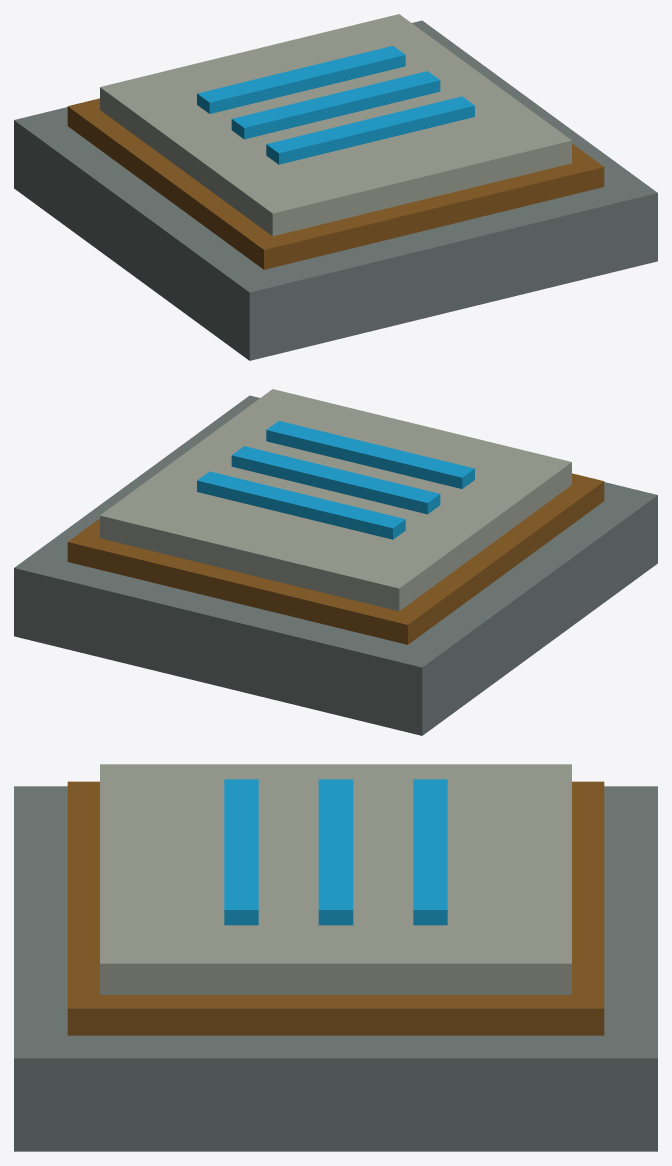
File: MOV_PRESS_WATER_02.obj
3 views of the same model, one above another, from view 1: azimuth 30°, elevation 25°; view 2: azimuth 150°, elevation 25°; view 3: azimuth 270°, elevation 25° (orthographic). The views are drawn at different scales.
Visible parts, largest first — view 1: Part_0, Part_2, Part_1, Part_4, Part_5, Part_3; view 2: Part_0, Part_2, Part_1, Part_4, Part_3, Part_5; view 3: Part_0, Part_2, Part_1, Part_4, Part_3, Part_5.
Boxes of the visible parts, x1,y1,x2,y2 form: Part_0: (14,20,657,360); Part_2: (100,14,571,236); Part_1: (67,98,604,269); Part_4: (231,71,440,139); Part_5: (266,96,474,164); Part_3: (197,46,405,113); Part_0: (14,395,657,735); Part_2: (100,389,571,611); Part_1: (67,473,604,644); Part_4: (231,446,440,514); Part_3: (197,471,405,539); Part_5: (266,421,474,488); Part_0: (14,786,657,1151); Part_2: (100,764,571,994); Part_1: (67,781,604,1035); Part_4: (318,779,353,925); Part_3: (413,779,447,925); Part_5: (224,779,258,925).
Bounding box in the file's own units: 1.5 × 0.44 × 1.5.
